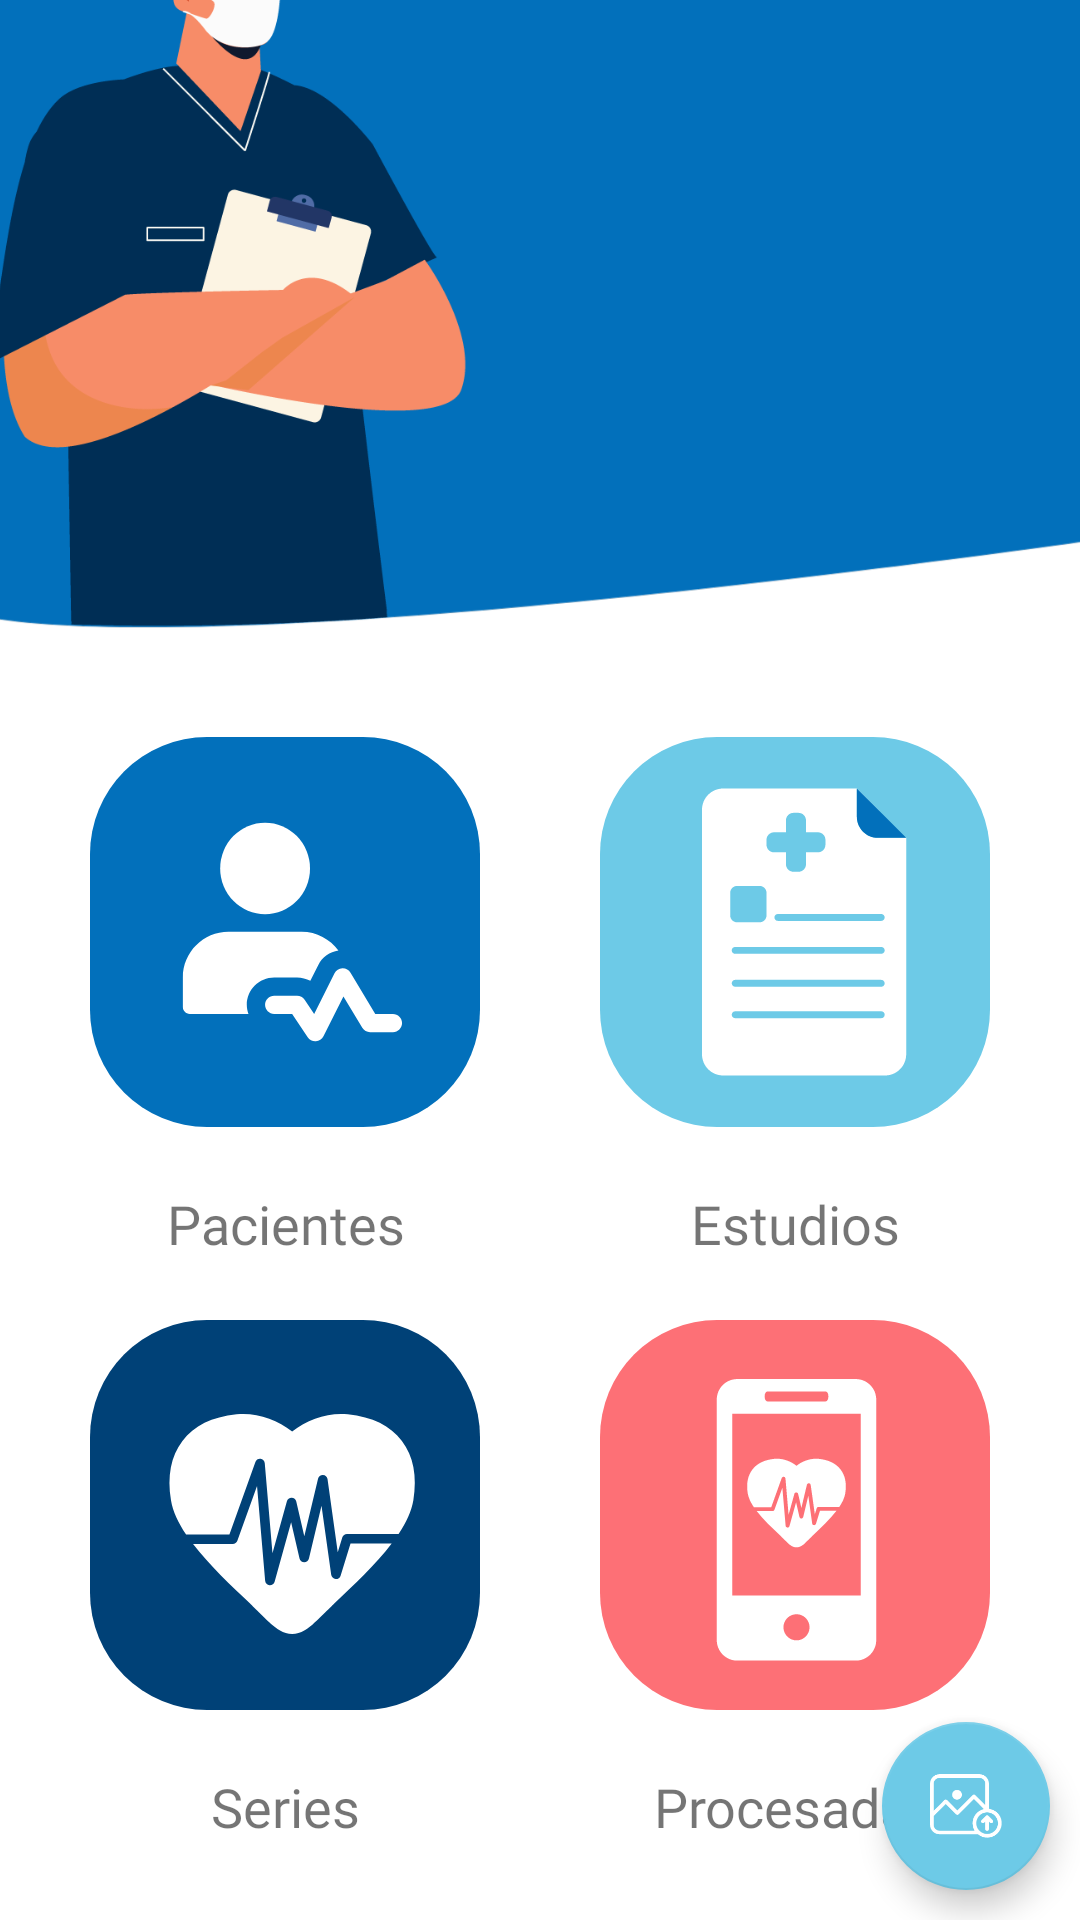

Where to tap for icons on this 1080px x 1920px app screen, as [x,y]:
upload: [966,1806]
